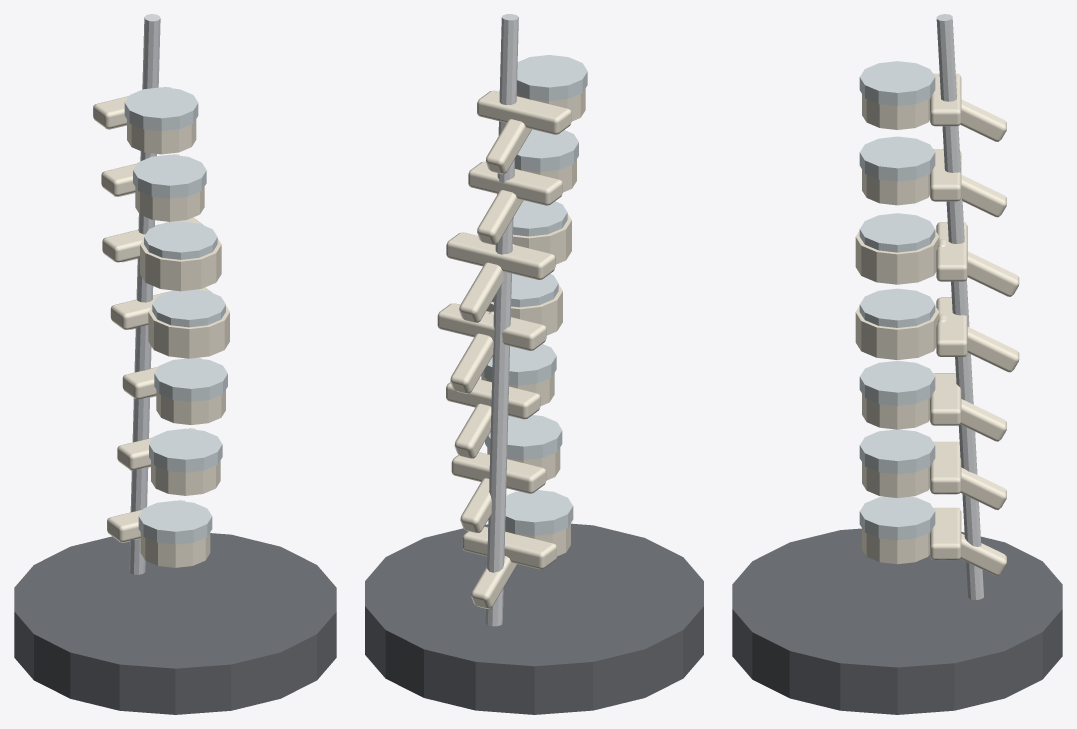
The model's file is human-anatomy-and-education-kit-spine-column-b74f98b2__38939.glb.
The picture shows the model from 3 angles, left to right: view 1: azimuth 30°, elevation 25°; view 2: azimuth 150°, elevation 25°; view 3: azimuth 270°, elevation 25°; orthographic projection. The views are drawn at different scales.
Parts seen in each view (by area): view 1: spine-column; view 2: spine-column; view 3: spine-column.
Boxes of the visible parts, x1,y1,x2,y2 form: spine-column: [14, 14, 336, 714]; spine-column: [365, 14, 703, 714]; spine-column: [732, 14, 1062, 714].
Size of the model in its own units: 0.32 by 0.6604 by 0.3152.
